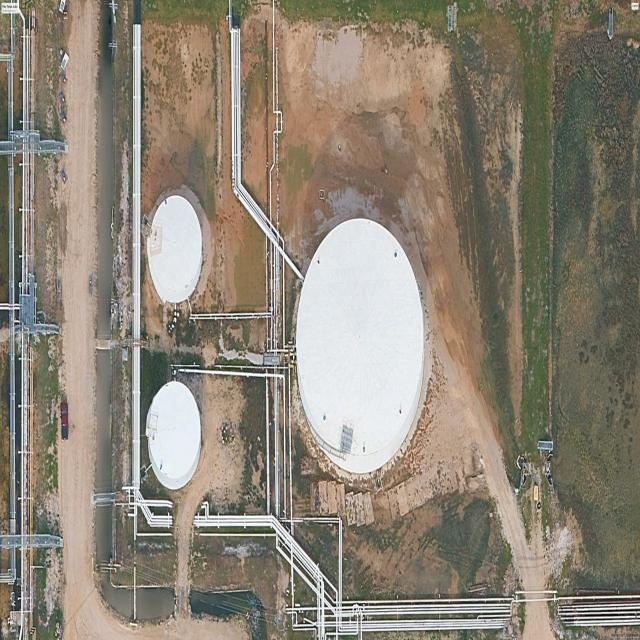Oil Rafinery: (296, 218, 425, 473), (145, 381, 201, 490), (146, 195, 202, 303)
